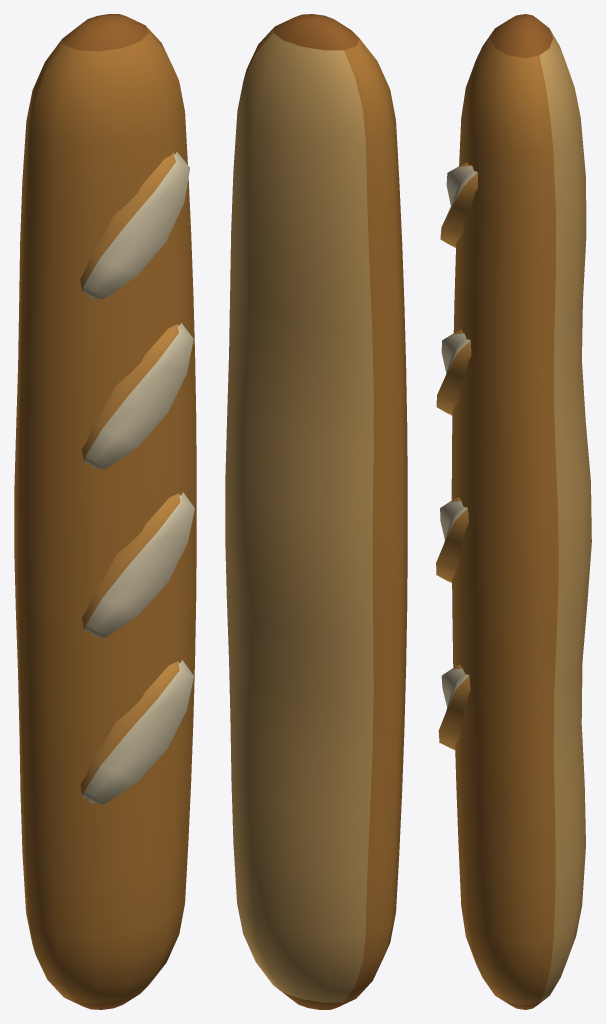
Rendered from Cosmetic_Baguette.glb.
3 views of the same model, side by side, from view 1: azimuth 30°, elevation 25°; view 2: azimuth 150°, elevation 25°; view 3: azimuth 270°, elevation 25° (orthographic).
Visible parts, largest first — view 1: Cosmetic_Baguette; view 2: Cosmetic_Baguette; view 3: Cosmetic_Baguette.
Boxes of the visible parts, x1=… form: Cosmetic_Baguette: x1=14, y1=14, x2=196, y2=1009; Cosmetic_Baguette: x1=225, y1=14, x2=407, y2=1009; Cosmetic_Baguette: x1=436, y1=14, x2=591, y2=1009.
Bounding box in the file's own units: 0.1799 × 1 × 0.1433.
